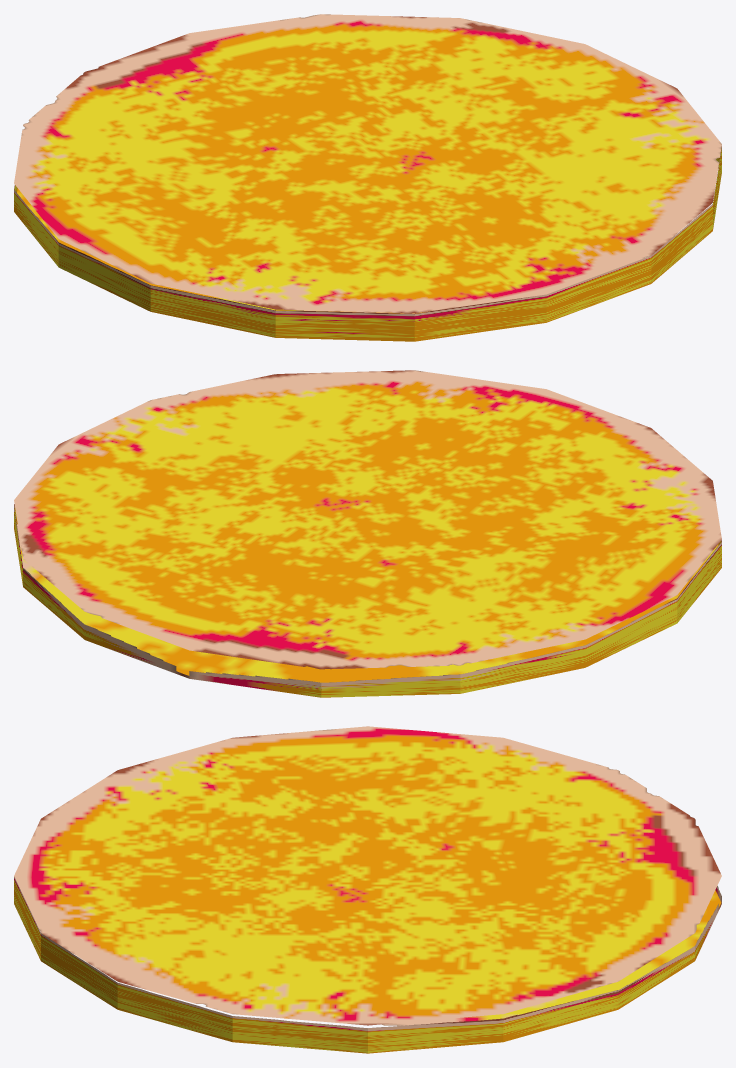
Rendered from Pizza.fbx.
3 views of the same model, one above another, from view 1: azimuth 30°, elevation 25°; view 2: azimuth 150°, elevation 25°; view 3: azimuth 270°, elevation 25° (orthographic).
Visible parts, largest first — view 1: Cylinder; view 2: Cylinder; view 3: Cylinder.
Part boxes in pixels (x1,y1,x2,y2): Cylinder: [14, 14, 721, 341]; Cylinder: [14, 370, 721, 697]; Cylinder: [14, 726, 721, 1053].
Size of the model in its own units: 200 by 8.75 by 200.
Materials: 1 (1 with a texture image).
